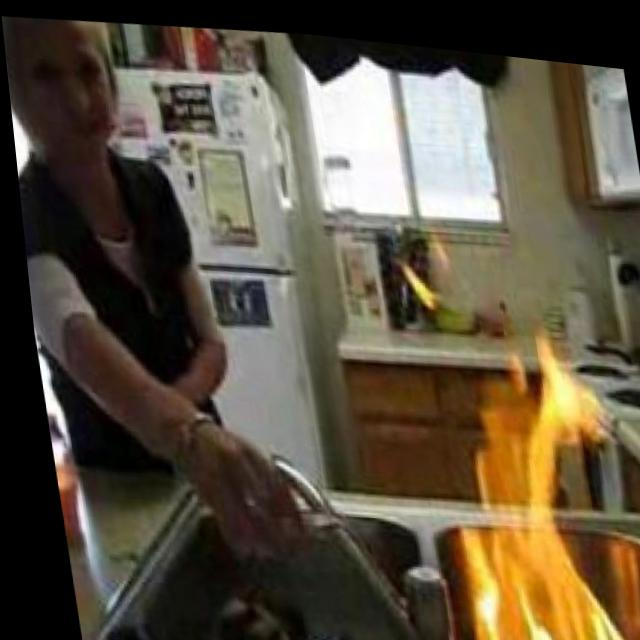Fire: (412, 327, 640, 640), (397, 230, 456, 304)
